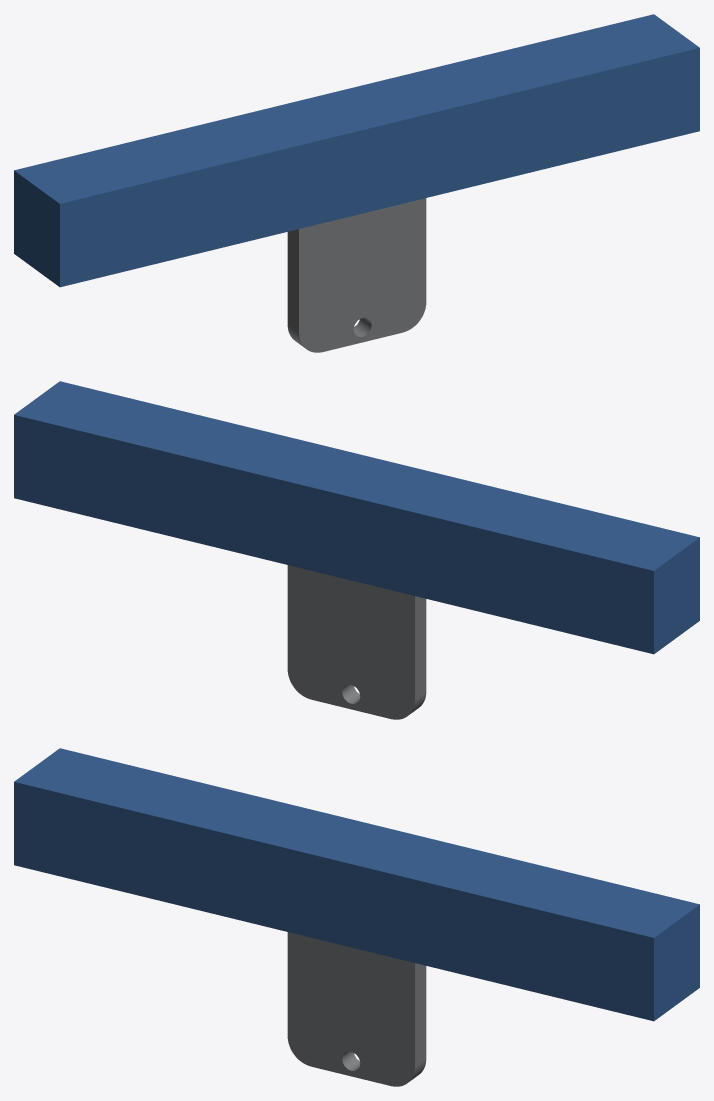
The model's file is bracket.glb.
3 views of the same model, one above another, from view 1: azimuth 30°, elevation 25°; view 2: azimuth 150°, elevation 25°; view 3: azimuth 330°, elevation 25° (orthographic).
Parts seen in each view (by area): view 1: hanger-bracket; view 2: hanger-bracket; view 3: hanger-bracket.
Part boxes in pixels (box(x1,y1,x2,y2)): hanger-bracket: box(14, 14, 699, 352); hanger-bracket: box(14, 381, 699, 719); hanger-bracket: box(14, 748, 699, 1086).
Size of the model in its own units: 322 by 110 by 39.97.
